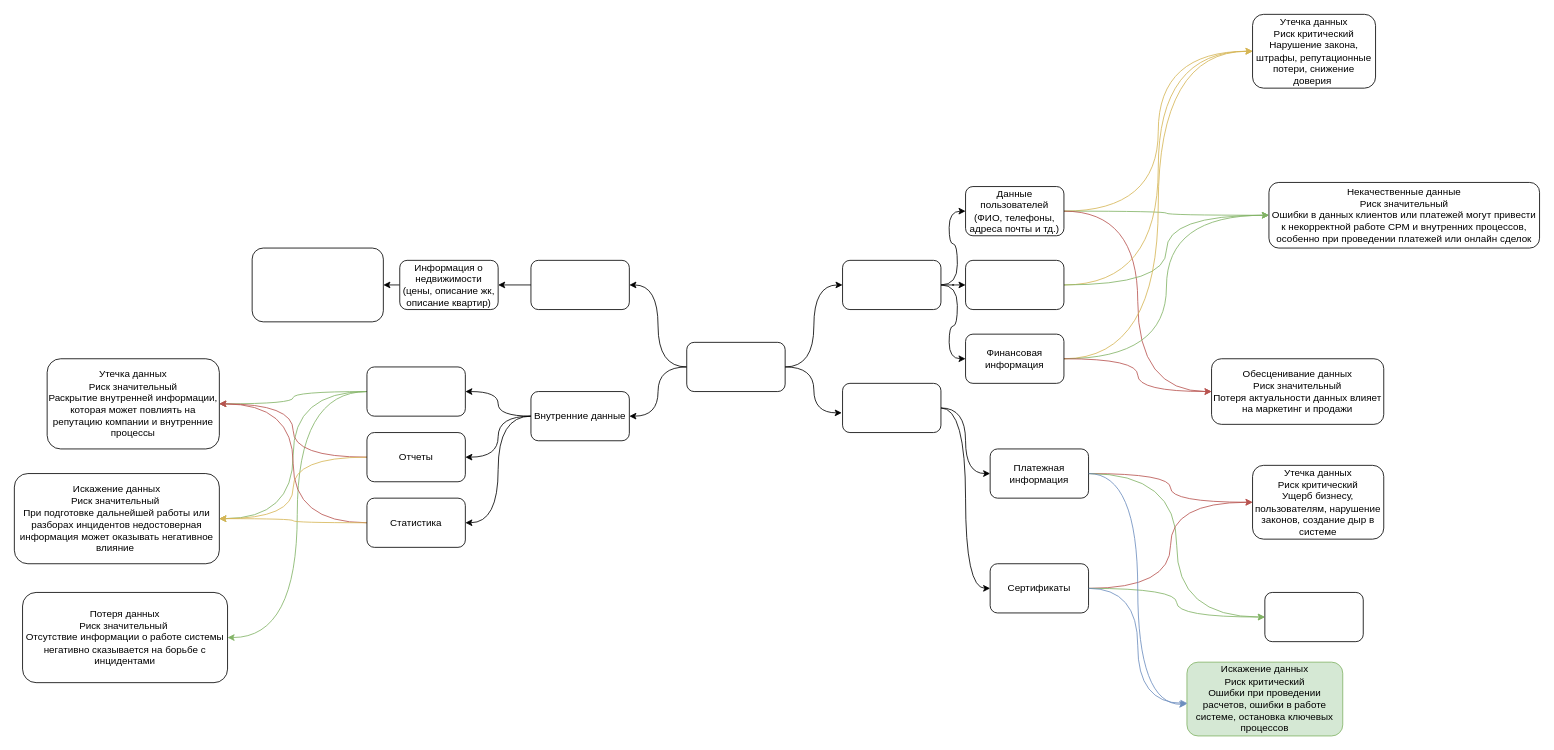
Image size: 1554x750. Some labels were removed from this diagram. Here are the shapes that lost their labels. From the top down, the centre of each, then its label:
the point at 317,284: Некачественные данные Риск значительный Снижение репутации и доверия к компании
the point at 579,285: Публичные данные
the point at 891,285: Конфиденциальные данные
the point at 1014,285: Договоры
the point at 735,367: Безопасность данных
the point at 415,391: Логи
the point at 891,408: Секретные данные
the point at 1313,617: Потеря данных Риск критический Остановка ключевых процессов
